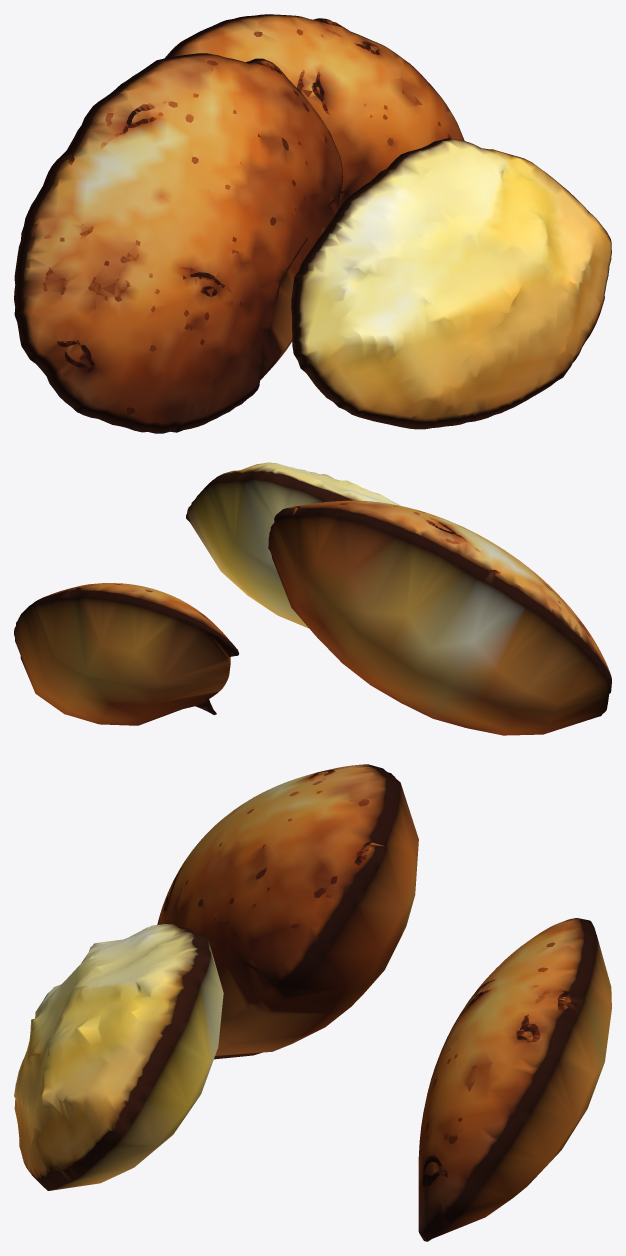
File: SM_potato.fbx
3 renders of one model, top to bottom at view 1: azimuth 30°, elevation 25°; view 2: azimuth 150°, elevation 25°; view 3: azimuth 270°, elevation 25°, orthographic. The views are drawn at different scales.
Visible parts, largest first — view 1: SM_potato; view 2: SM_potato; view 3: SM_potato.
Part boxes in pixels (bbox=[...]): SM_potato: bbox=[14, 14, 611, 433]; SM_potato: bbox=[14, 462, 611, 735]; SM_potato: bbox=[14, 764, 611, 1241].
Size of the model in its own units: 0.1733 by 0.0828 by 0.1488.
